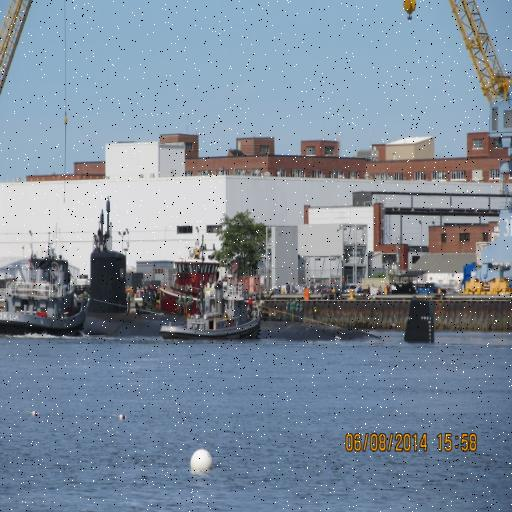submarine: (87, 249, 384, 340)
